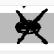not correct: (12, 8, 50, 45)
